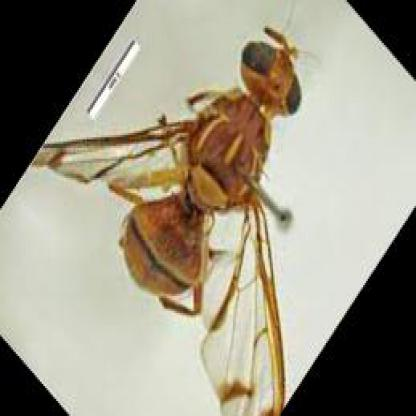fruit fly: (38, 38, 304, 409)
